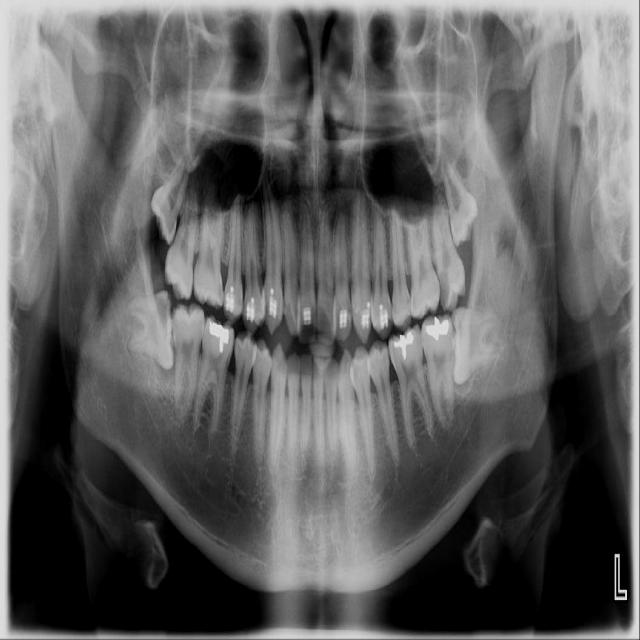Caries: (152, 289, 169, 324)
Filling: (202, 315, 235, 367), (392, 331, 416, 360), (425, 315, 448, 338)
impacted tooth: (452, 305, 513, 380), (152, 139, 196, 241), (122, 290, 173, 367), (441, 153, 478, 244)
